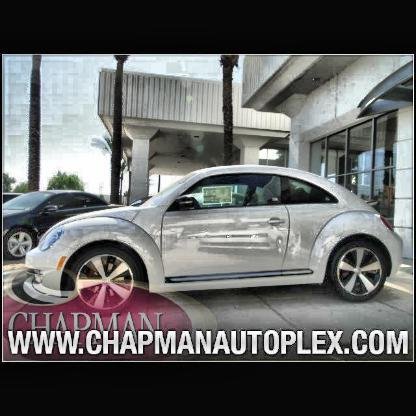Volkswagen Beetle Hatchback 2012: (27, 167, 399, 312)
